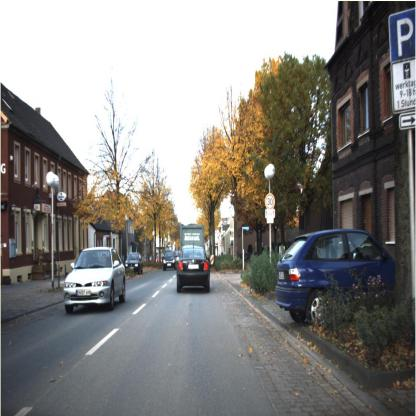prohibitory: (263, 189, 276, 211)
